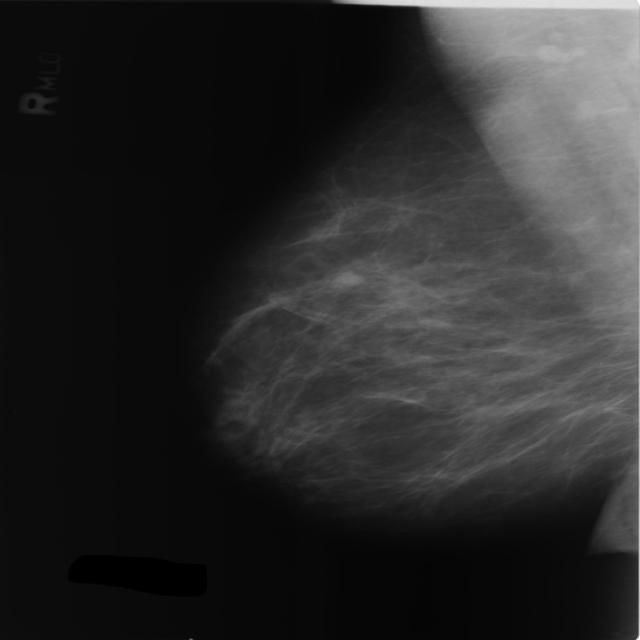tumour: (333, 268, 363, 286)
